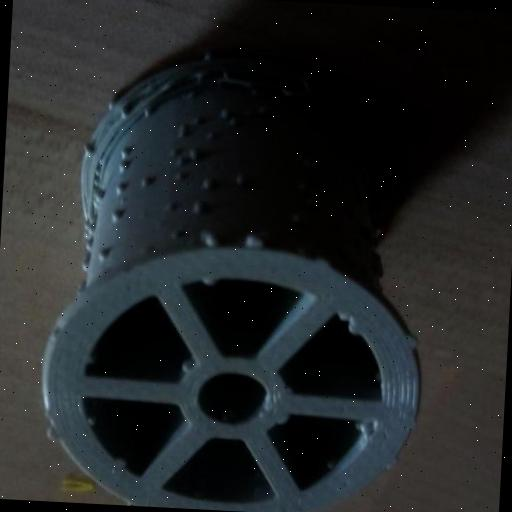blobs: (240, 232, 270, 256), (286, 210, 308, 231), (232, 174, 254, 195), (201, 230, 224, 250), (401, 332, 424, 352), (190, 200, 210, 222), (212, 103, 234, 123), (42, 426, 62, 446), (198, 174, 220, 192), (198, 48, 220, 66), (344, 322, 367, 339), (177, 356, 195, 376), (136, 176, 154, 194), (116, 104, 134, 122), (252, 101, 270, 118), (81, 412, 99, 429), (114, 162, 132, 178), (184, 144, 200, 162), (94, 248, 110, 266), (76, 258, 94, 274), (108, 456, 128, 470), (202, 272, 217, 290), (109, 210, 125, 226), (172, 123, 188, 139), (92, 184, 106, 202), (102, 98, 116, 116), (296, 176, 310, 194), (138, 106, 156, 120), (160, 202, 180, 214), (78, 144, 94, 159), (118, 146, 134, 160), (202, 128, 218, 142), (320, 456, 336, 470), (82, 241, 96, 256), (172, 171, 186, 185), (227, 114, 241, 128), (114, 184, 130, 196)
